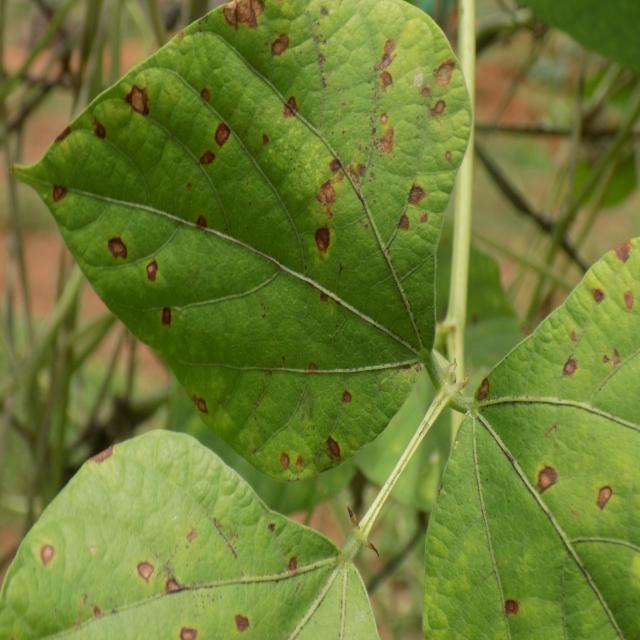Dolicos bean_cercospora leaf spot: (19, 0, 471, 481)
